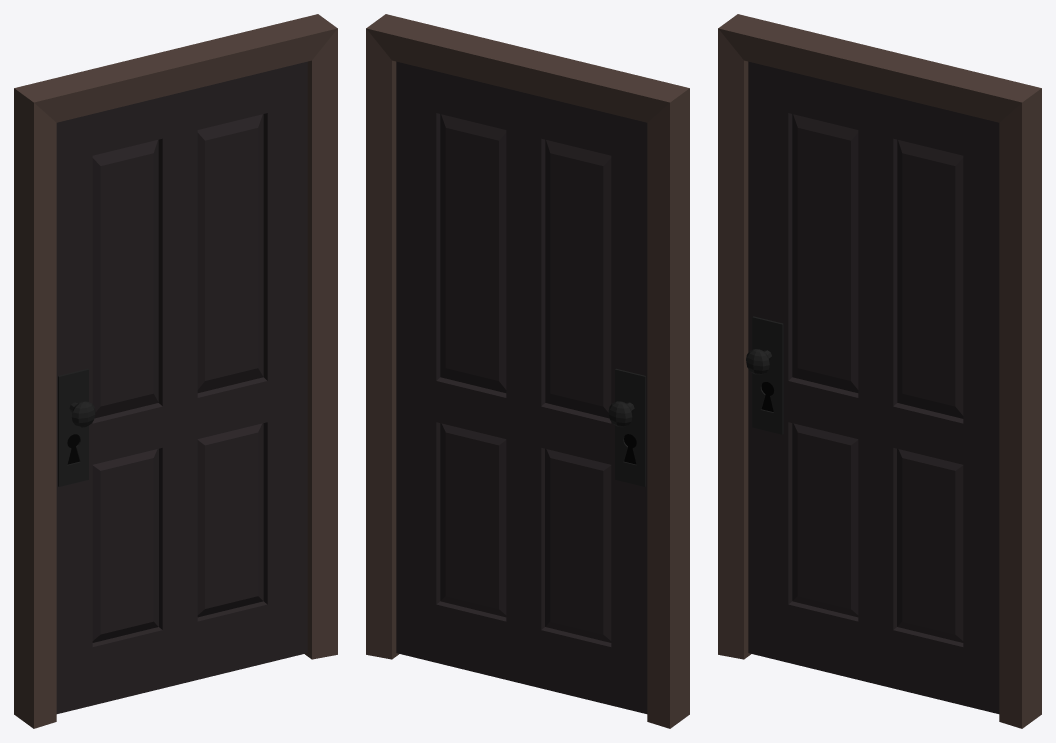
The model's file is Door.fbx.
3 renders of one model, left to right at view 1: azimuth 30°, elevation 25°; view 2: azimuth 150°, elevation 25°; view 3: azimuth 330°, elevation 25°, orthographic.
Parts seen in each view (by area): view 1: door, frame, knob_face; view 2: door, frame, knob_face.001; view 3: door, frame, knob_face.
Boxes of the visible parts, <box> form: door: <box>56,61,307,713</box>; frame: <box>14,14,337,728</box>; knob_face: <box>58,368,88,486</box>; door: <box>396,61,647,713</box>; frame: <box>366,14,689,728</box>; knob_face.001: <box>615,368,645,486</box>; door: <box>748,61,999,713</box>; frame: <box>718,14,1041,728</box>; knob_face: <box>752,316,783,434</box>.
Bounding box in the file's own units: 2558 × 5036 × 563.
